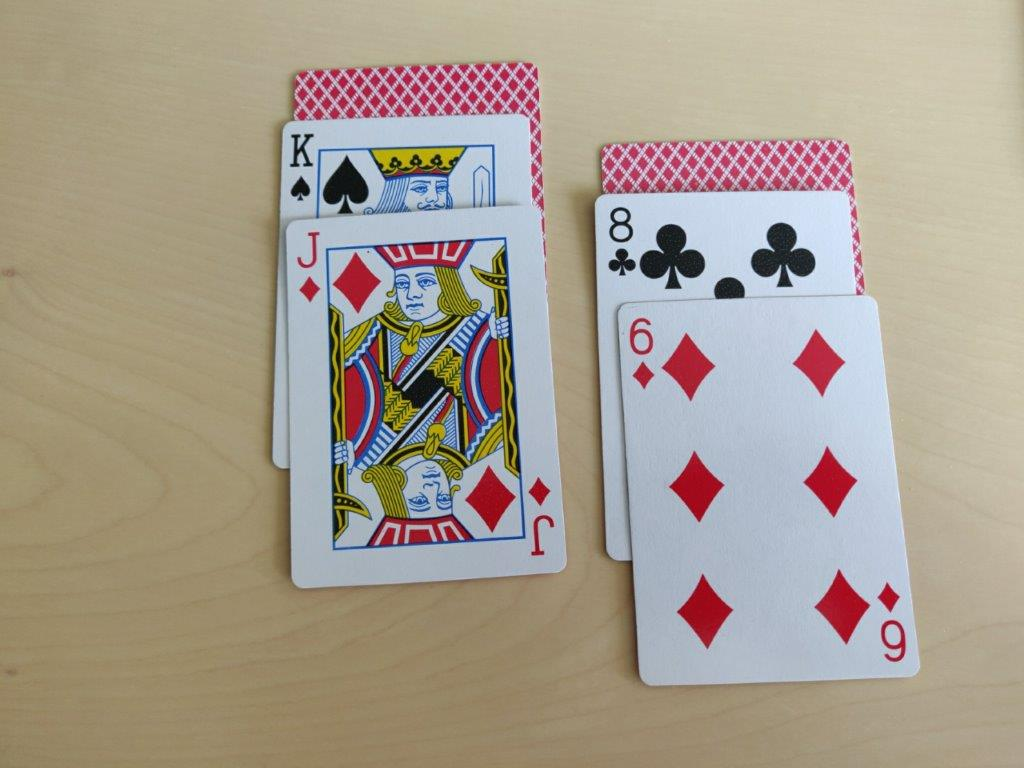6D: (626, 307, 661, 394)
8C: (603, 203, 639, 286)
BACK: (599, 136, 855, 199), (292, 64, 547, 121)
JD: (291, 226, 329, 310)
KS: (286, 127, 318, 207)
